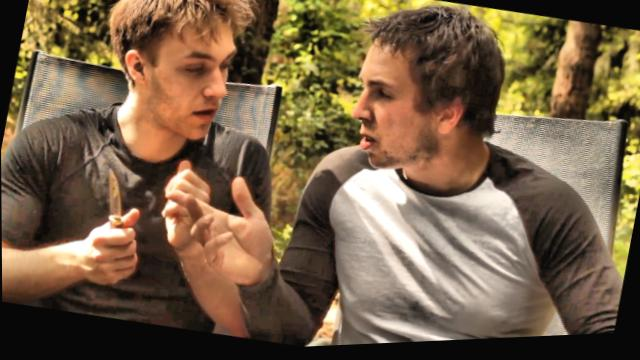knife: (81, 153, 160, 267)
